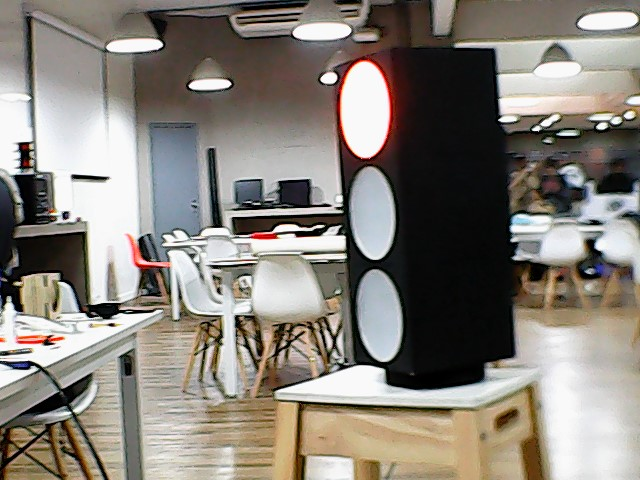vermelho: (326, 40, 519, 370)
